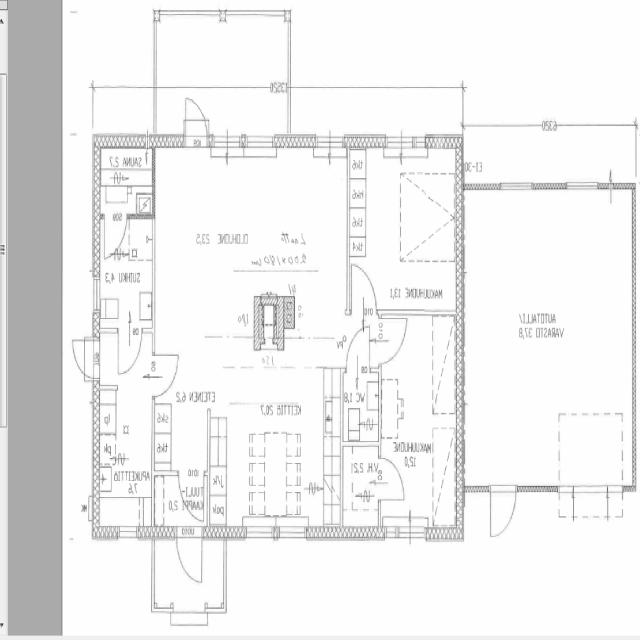door: (177, 526, 202, 584), (491, 486, 516, 538), (179, 471, 204, 522), (352, 266, 377, 314), (346, 326, 371, 373), (378, 320, 405, 362), (152, 354, 178, 396), (378, 458, 404, 500), (186, 97, 207, 148), (72, 341, 100, 378), (119, 328, 141, 372), (105, 214, 126, 258)
